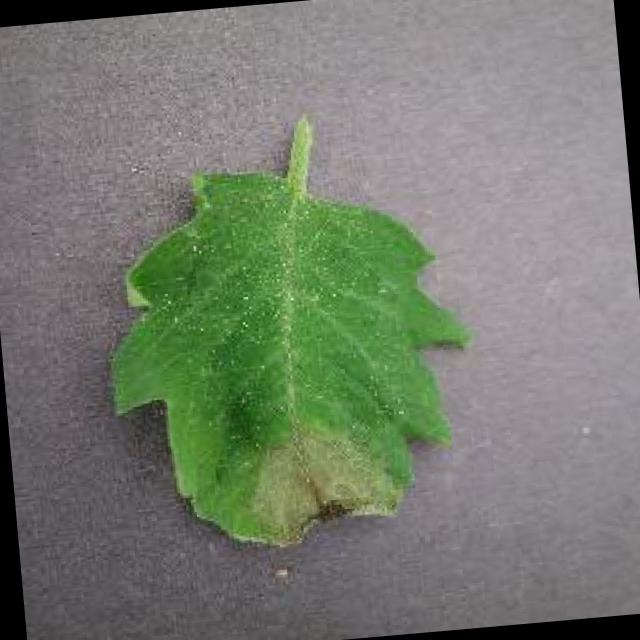Tomato_Late_Blight: (241, 402, 401, 538)
